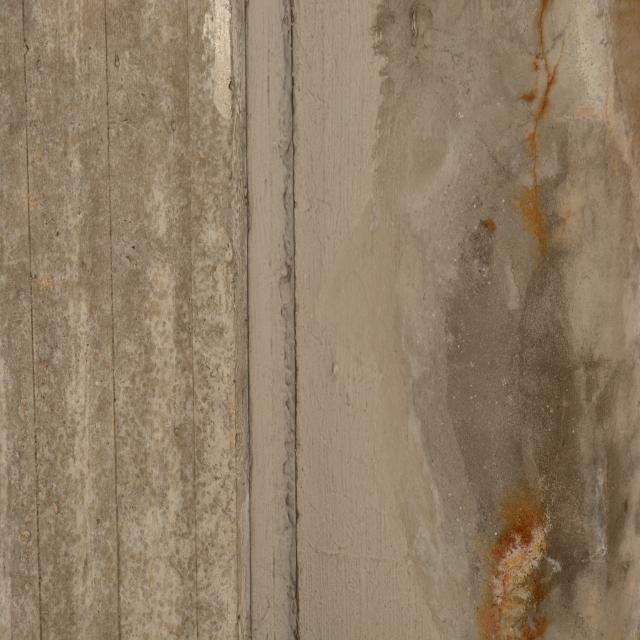corrosion: (513, 0, 566, 283), (474, 475, 561, 640), (482, 212, 501, 241)
